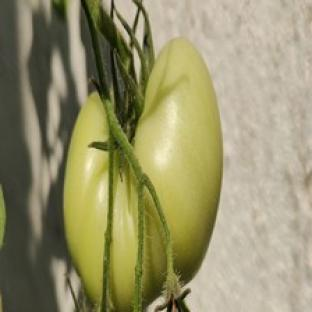Tomato: (134, 39, 222, 282)
